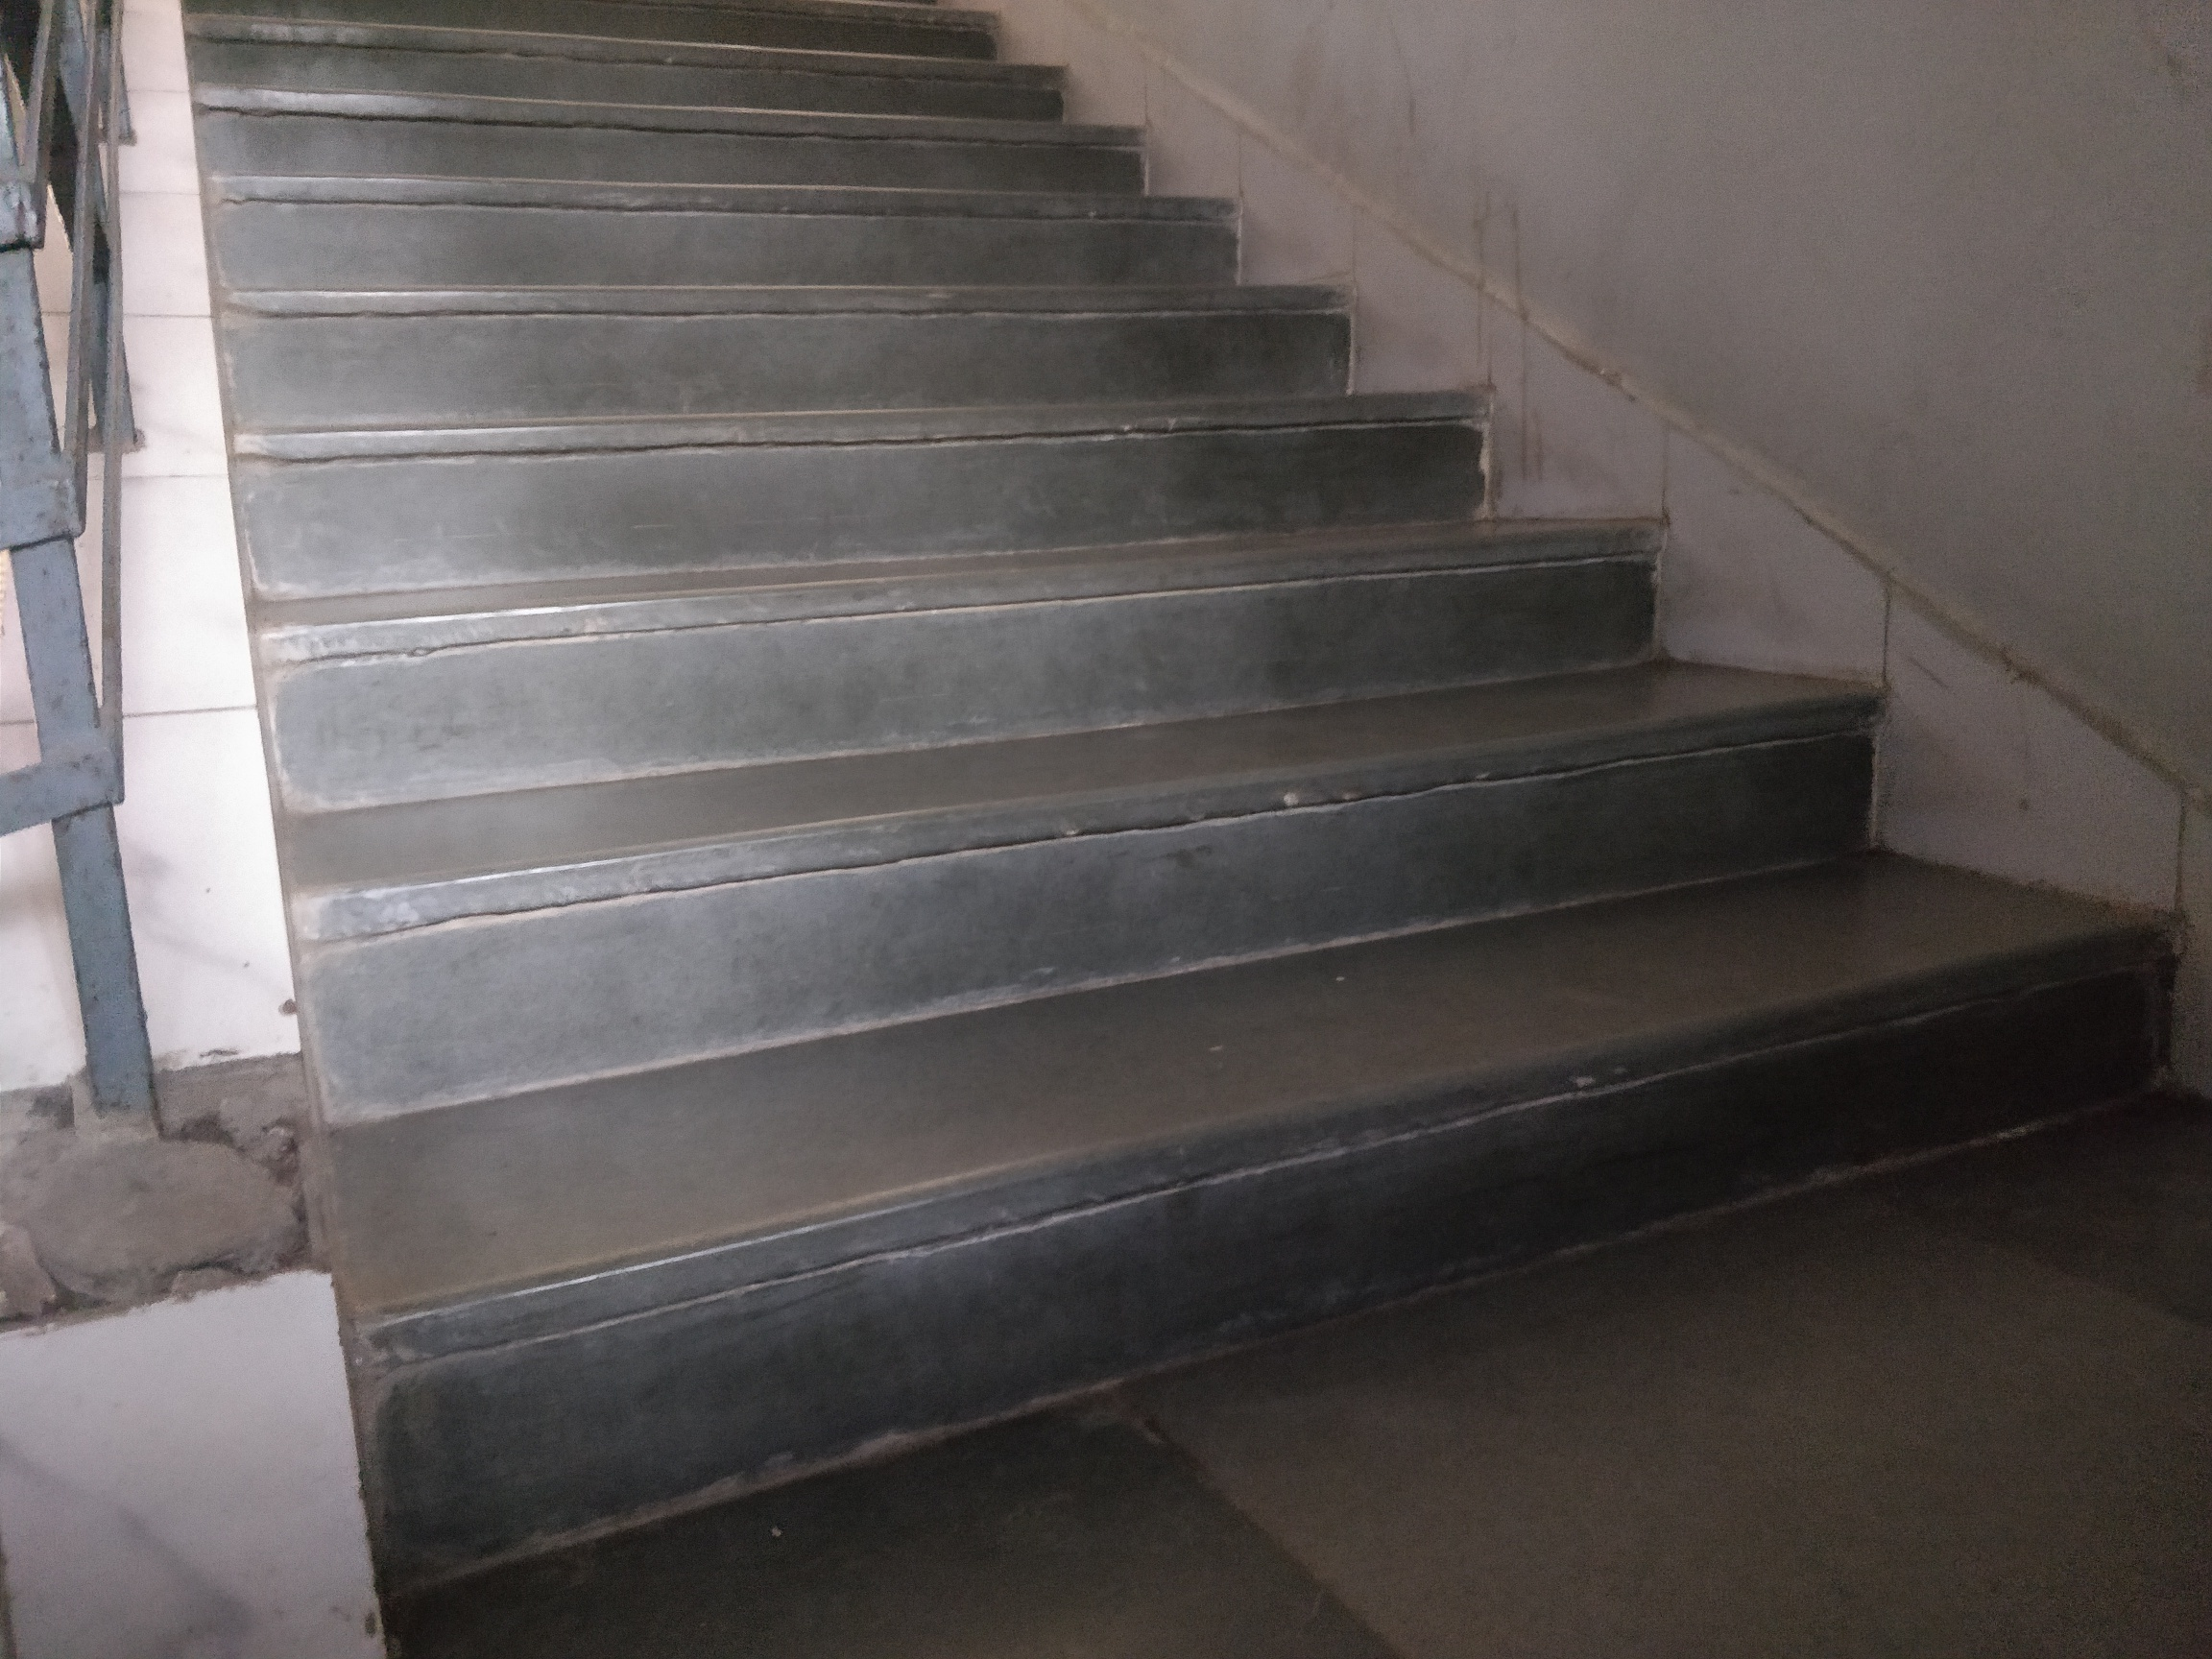stairs_up: (165, 3, 2212, 1380)
